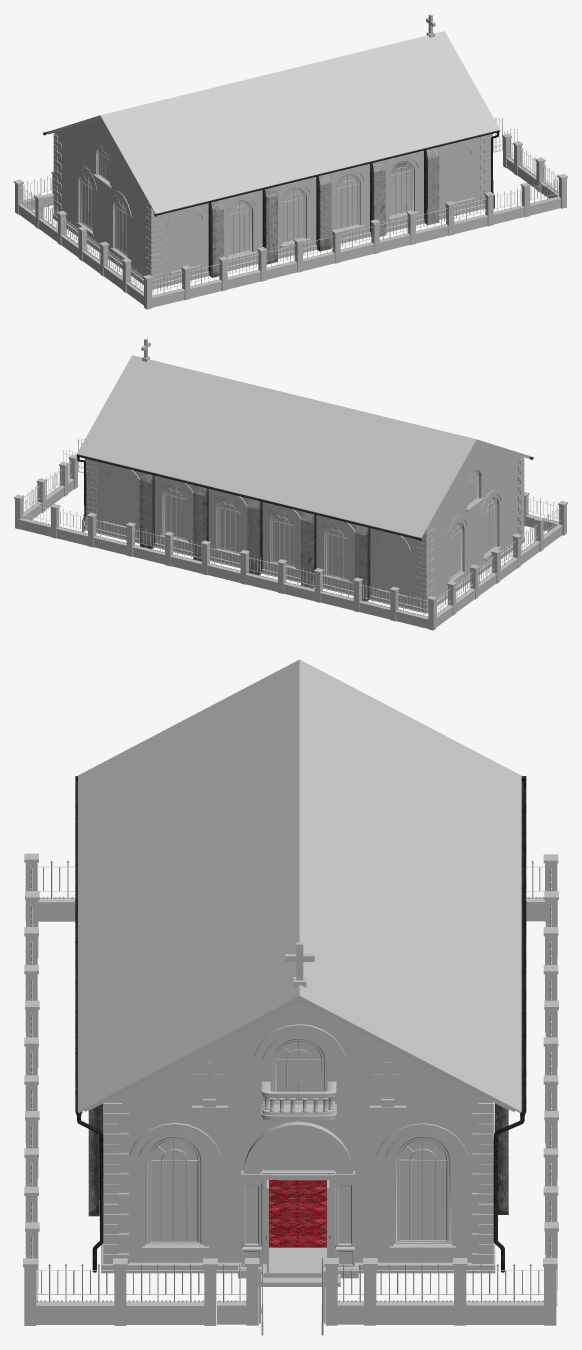
The model's file is ChurchFinalSScene-2.fbx.
The picture shows the model from 3 angles, top to bottom: view 1: azimuth 30°, elevation 25°; view 2: azimuth 150°, elevation 25°; view 3: azimuth 270°, elevation 25°; orthographic projection. The views are drawn at different scales.
Visible parts, largest first — view 1: CHURCH, fence; view 2: CHURCH, fence; view 3: CHURCH, fence.
Part boxes in pixels (x1,y1,x2,y2): CHURCH: (43,14,499,289); fence: (14,133,567,309); CHURCH: (76,338,533,613); fence: (14,454,567,630); CHURCH: (75,659,526,1286); fence: (23,853,558,1325).
Size of what is drawn, in the model's own units: 3169 by 1114 by 1708.
